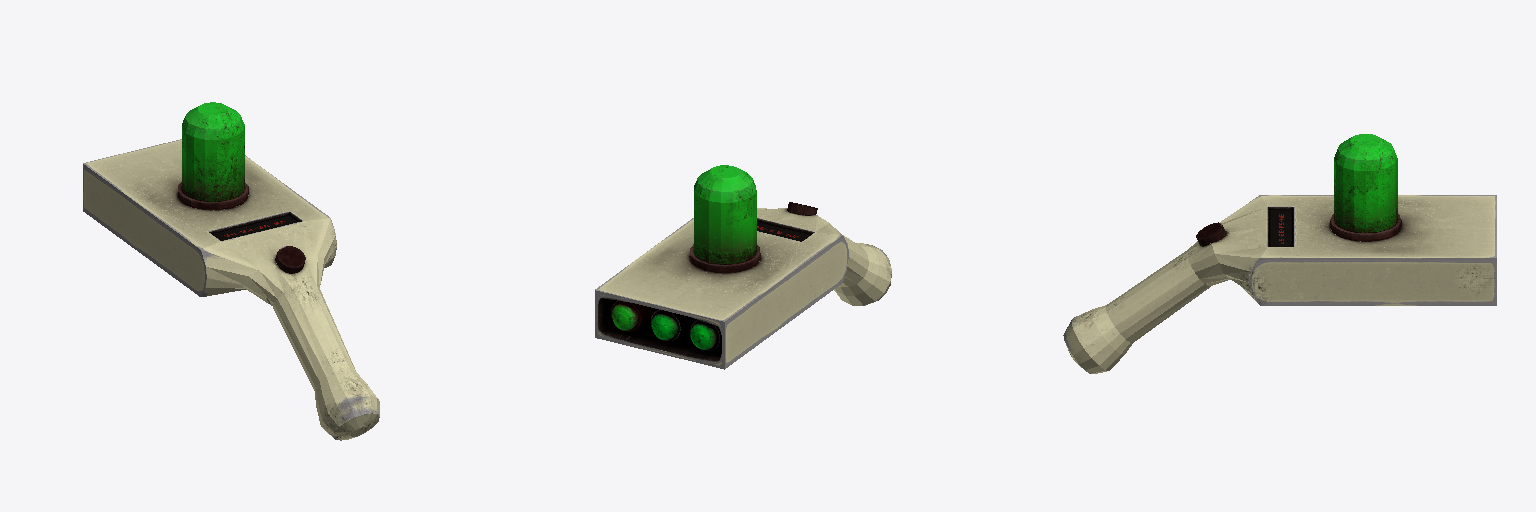
3 views of the same model, side by side, from view 1: azimuth 30°, elevation 25°; view 2: azimuth 150°, elevation 25°; view 3: azimuth 270°, elevation 25° (orthographic).
Visible parts, largest first — view 1: Whole_Lowpoly_Cylinder_006; view 2: Whole_Lowpoly_Cylinder_006; view 3: Whole_Lowpoly_Cylinder_006.
Part boxes in pixels (left/top/right/bottom): Whole_Lowpoly_Cylinder_006: left=83, top=102, right=379, bottom=440; Whole_Lowpoly_Cylinder_006: left=595, top=165, right=891, bottom=369; Whole_Lowpoly_Cylinder_006: left=1063, top=134, right=1496, bottom=373.
Bounding box in the file's own units: 1.81 × 3.07 × 5.22.
1 materials, 1 textured.